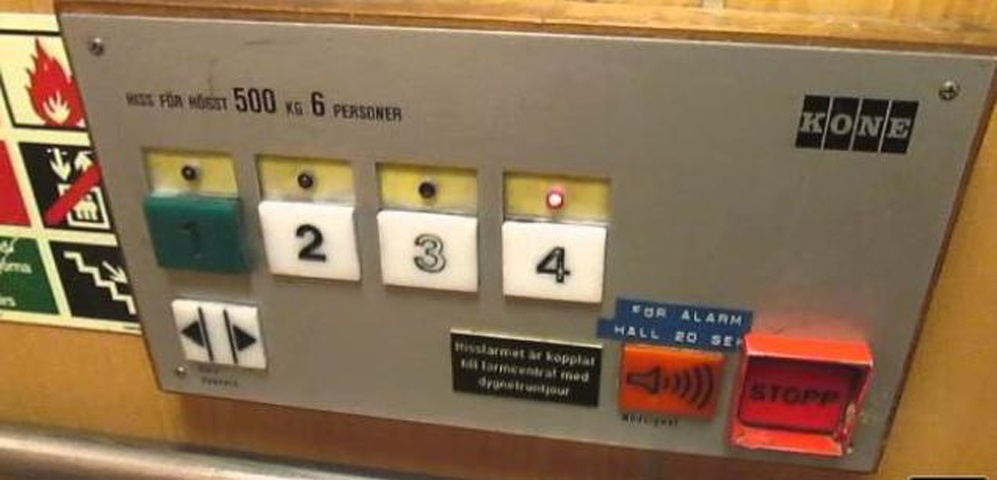1: (139, 189, 253, 281)
2: (252, 196, 366, 288)
3: (370, 202, 484, 294)
4: (497, 214, 611, 306)
open: (164, 289, 274, 378)
text_stop: (734, 353, 872, 439)
unknown: (614, 339, 724, 428)
